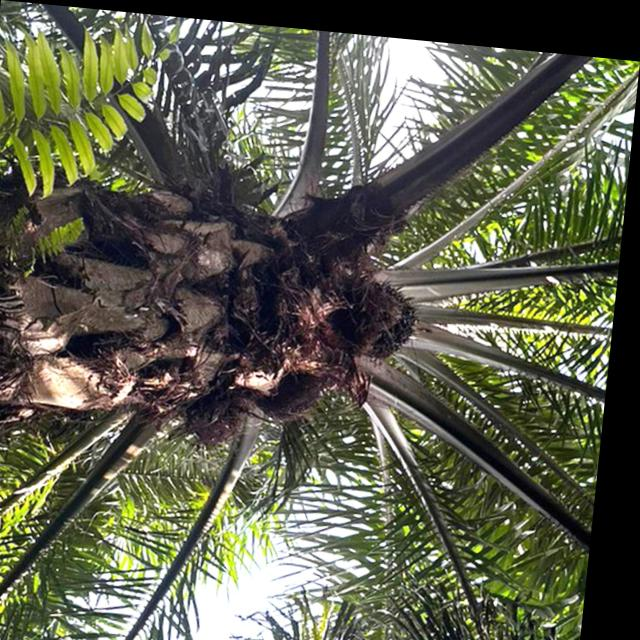unripe: (354, 268, 428, 357), (265, 362, 336, 427)
